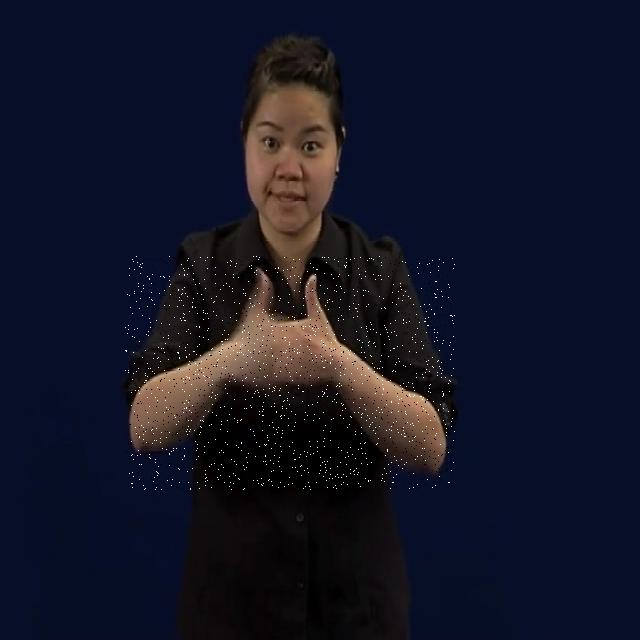bread: (125, 256, 455, 490)
